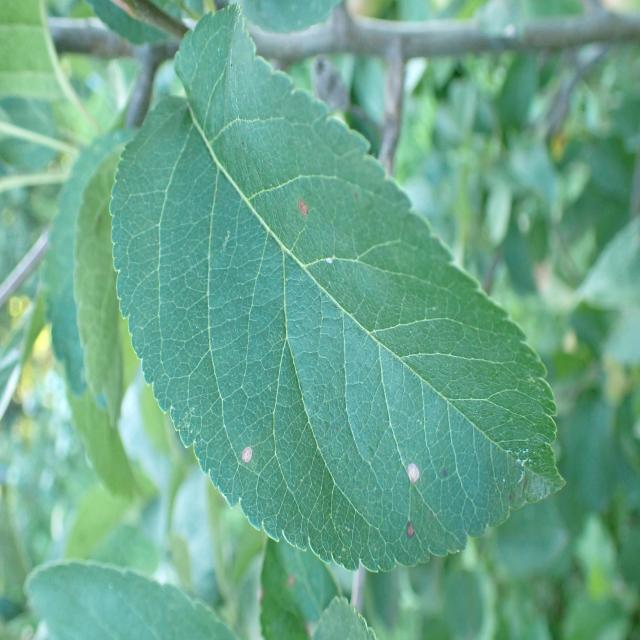frog-eye-leaf-spot: (108, 3, 566, 575)
